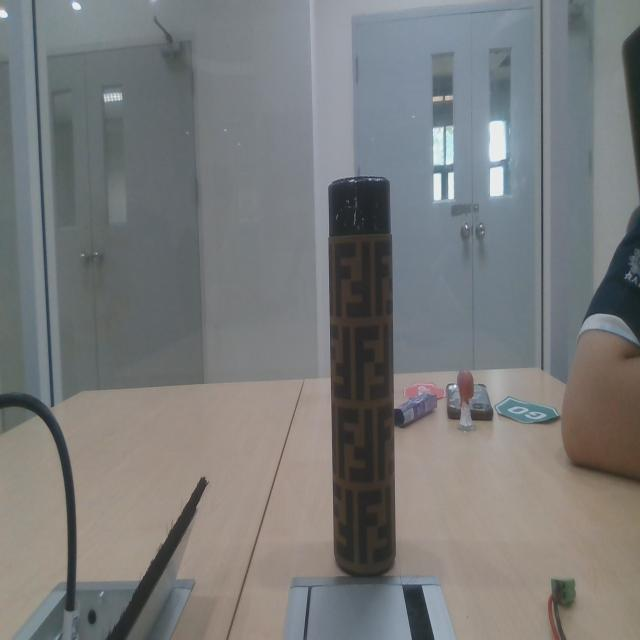Pole: (322, 166, 402, 593)
